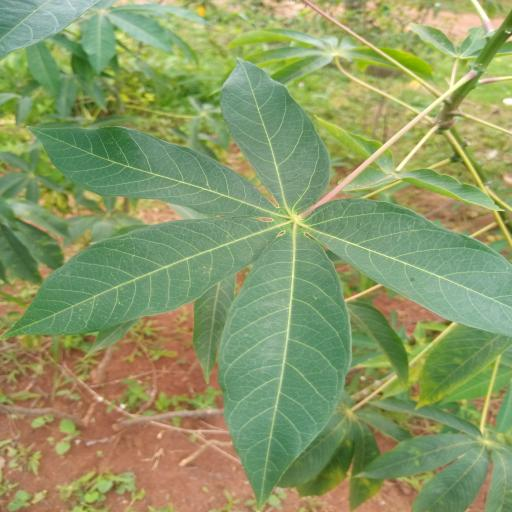Cassava_Healthy: (17, 56, 512, 495)
